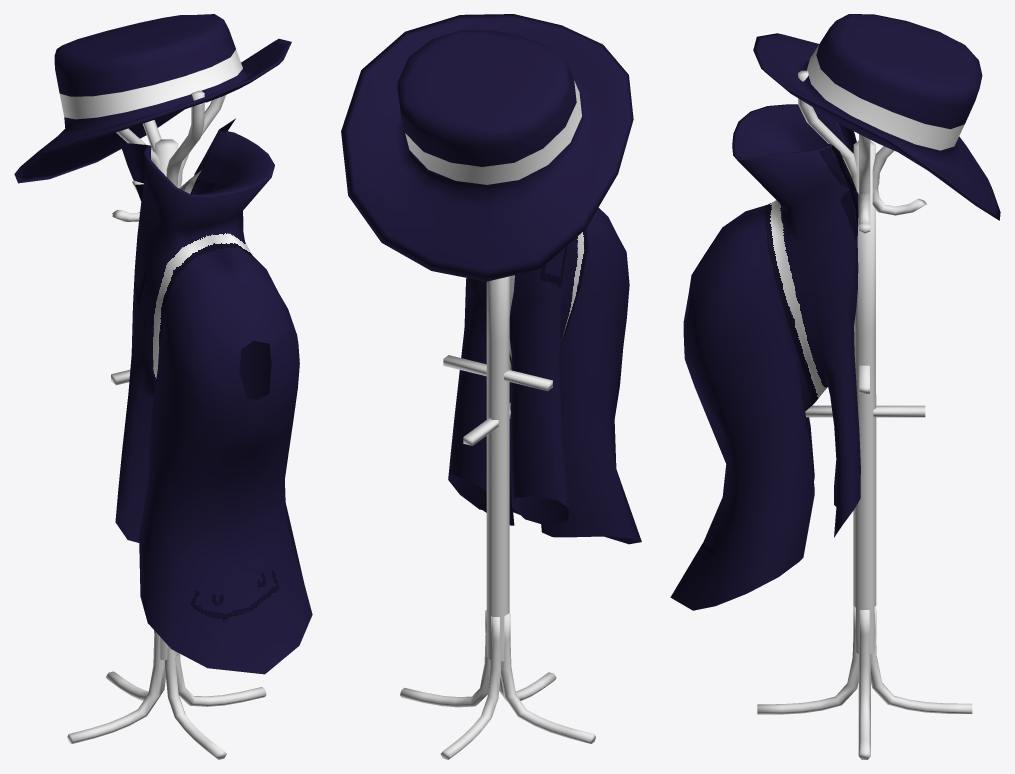
The model's file is hanger.glb.
3 views of the same model, side by side, from view 1: azimuth 30°, elevation 25°; view 2: azimuth 150°, elevation 25°; view 3: azimuth 270°, elevation 25° (orthographic).
Parts seen in each view (by area): view 1: coat, hat, hanger; view 2: hat, coat, hanger; view 3: coat, hat, hanger.
Part boxes in pixels (x1,y1,x2,y2): coat: (115,118,312,674); hat: (14,14,291,183); hanger: (67,90,266,759); hat: (341,14,633,281); coat: (448,207,641,544); hanger: (400,276,595,759); coat: (670,104,860,610); hat: (753,14,1000,220); hanger: (757,70,972,759).
Size of the model in its own units: 2.18 by 5.68 by 2.51.
Materials: 1 (1 with a texture image).
